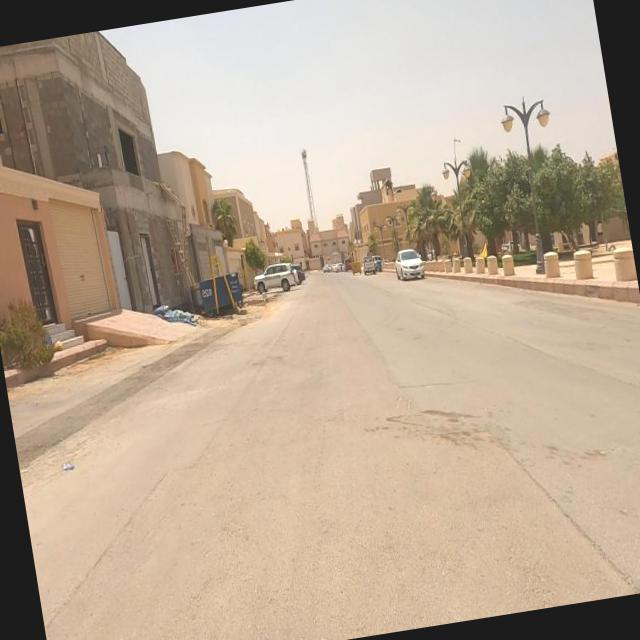debris: (139, 257, 224, 366), (38, 424, 106, 500)
